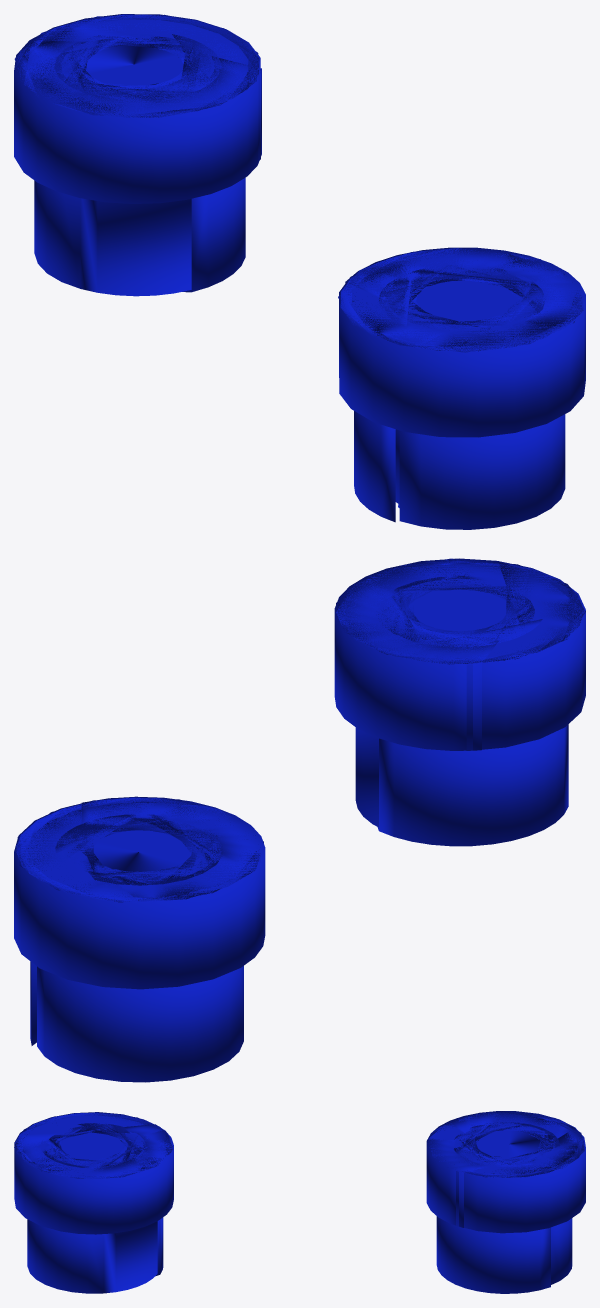
File: tuyeau_element_000024.obj
3 views of the same model, one above another, from view 1: azimuth 30°, elevation 25°; view 2: azimuth 150°, elevation 25°; view 3: azimuth 270°, elevation 25° (orthographic). The views are drawn at different scales.
Visible parts, largest first — view 1: tuyeau1_Cube.014, tuyeau2_Cube.017; view 2: tuyeau2_Cube.017, tuyeau1_Cube.014; view 3: tuyeau1_Cube.014, tuyeau2_Cube.017.
Boxes of the visible parts, left/top/right/bottom form: tuyeau1_Cube.014: left=14, top=14, right=261, bottom=296; tuyeau2_Cube.017: left=338, top=247, right=585, bottom=529; tuyeau2_Cube.017: left=334, top=558, right=585, bottom=846; tuyeau1_Cube.014: left=14, top=796, right=265, bottom=1082; tuyeau1_Cube.014: left=426, top=1111, right=585, bottom=1293; tuyeau2_Cube.017: left=14, top=1112, right=173, bottom=1293.
Bounding box in the file's own units: 3579 × 2917 × 12614.
